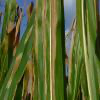Corn leaf blight: (34, 1, 61, 99), (3, 17, 34, 99), (77, 1, 99, 96), (2, 1, 18, 84)
